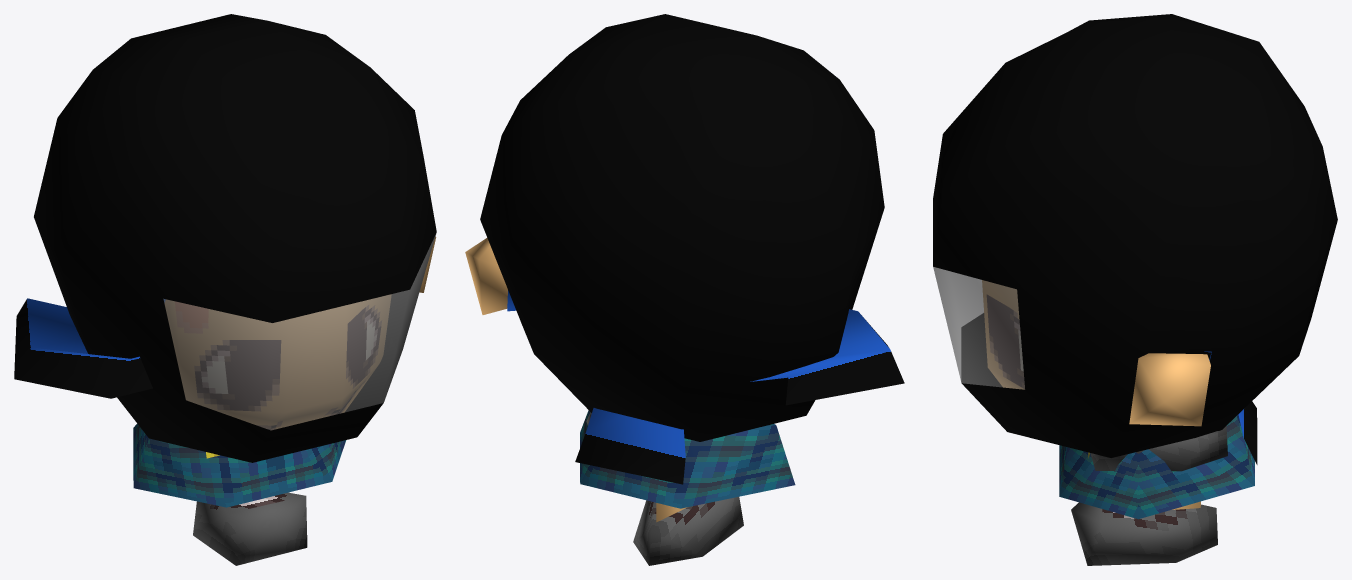
3 views of the same model, side by side, from view 1: azimuth 30°, elevation 25°; view 2: azimuth 150°, elevation 25°; view 3: azimuth 270°, elevation 25° (orthographic).
Parts seen in each view (by area): view 1: pmd52_00_01; view 2: pmd52_00_01; view 3: pmd52_00_01.
Boxes of the visible parts, <box> form: pmd52_00_01: <box>14,14,436,565</box>; pmd52_00_01: <box>465,14,904,565</box>; pmd52_00_01: <box>933,14,1337,565</box>.
Bounding box in the file's own units: 1.22 × 1.35 × 0.9741.
8 materials, 7 textured.
